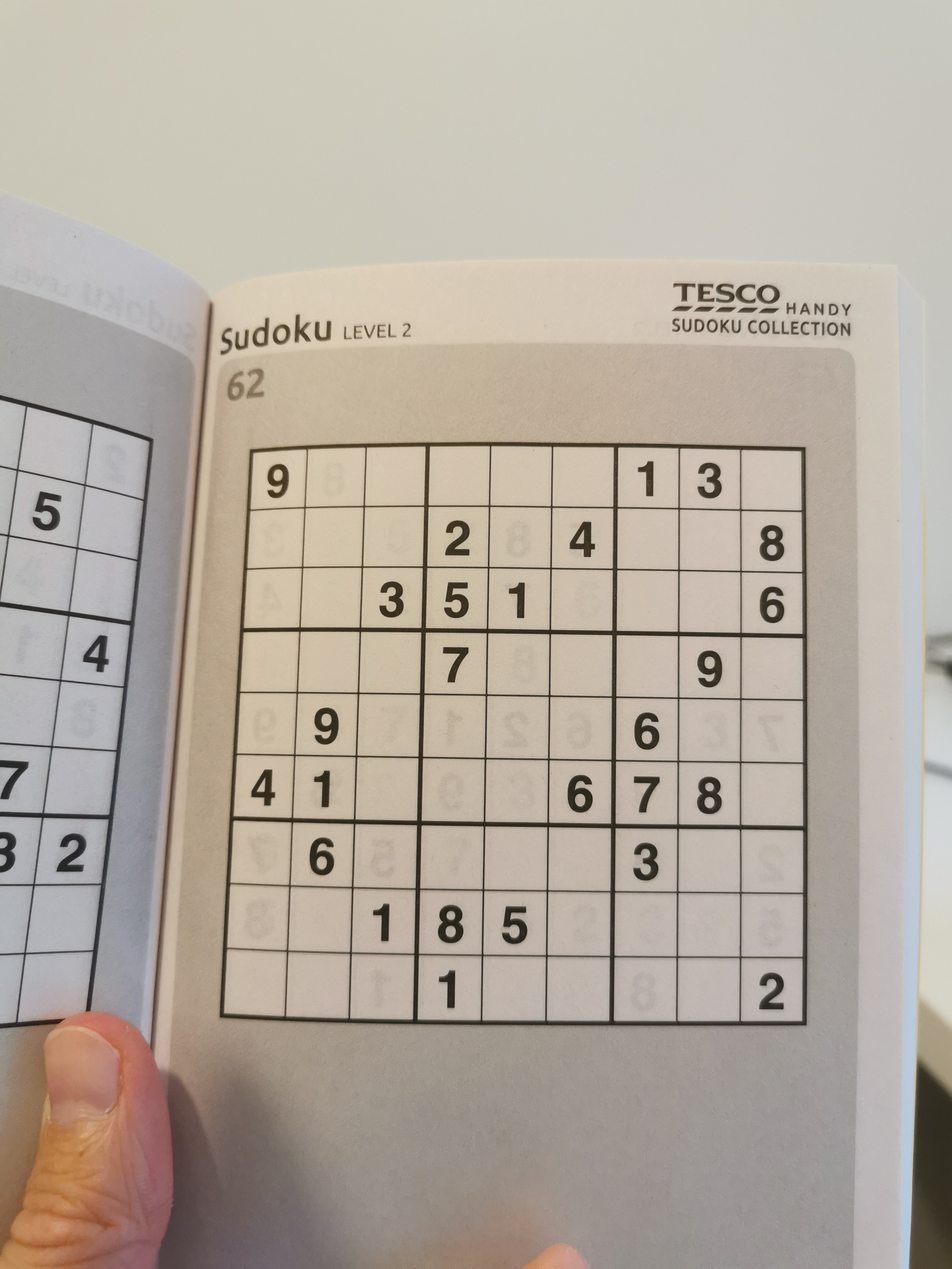sudoku: (198, 436, 811, 1038)
